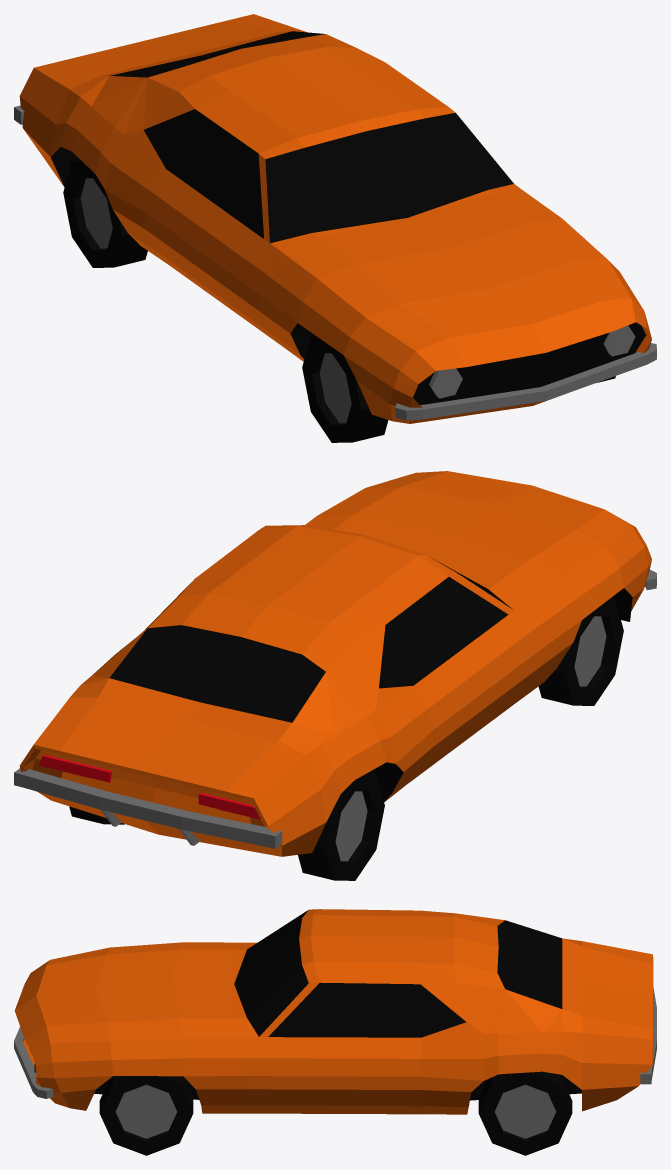
File: 60s_muscle_car_orange.glb
3 renders of one model, top to bottom at view 1: azimuth 30°, elevation 25°; view 2: azimuth 150°, elevation 25°; view 3: azimuth 270°, elevation 25°, orthographic. The views are drawn at different scales.
Visible parts, largest first — view 1: Body_0; view 2: Body_0; view 3: Body_0.
Boxes of the visible parts, x1=… form: Body_0: x1=14, y1=14, x2=656, y2=442; Body_0: x1=14, y1=471, x2=656, y2=880; Body_0: x1=14, y1=909, x2=656, y2=1155.
Bounding box in the file's own units: 1.31 × 0.9189 × 3.16.
